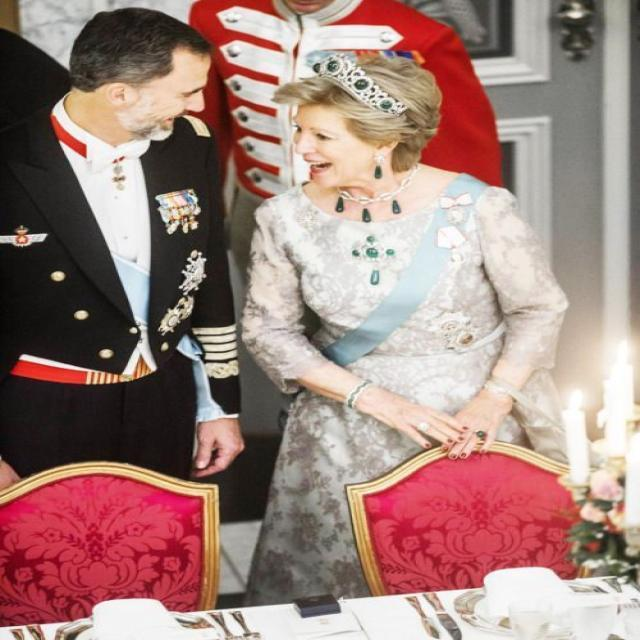Earring: (370, 146, 389, 198)
